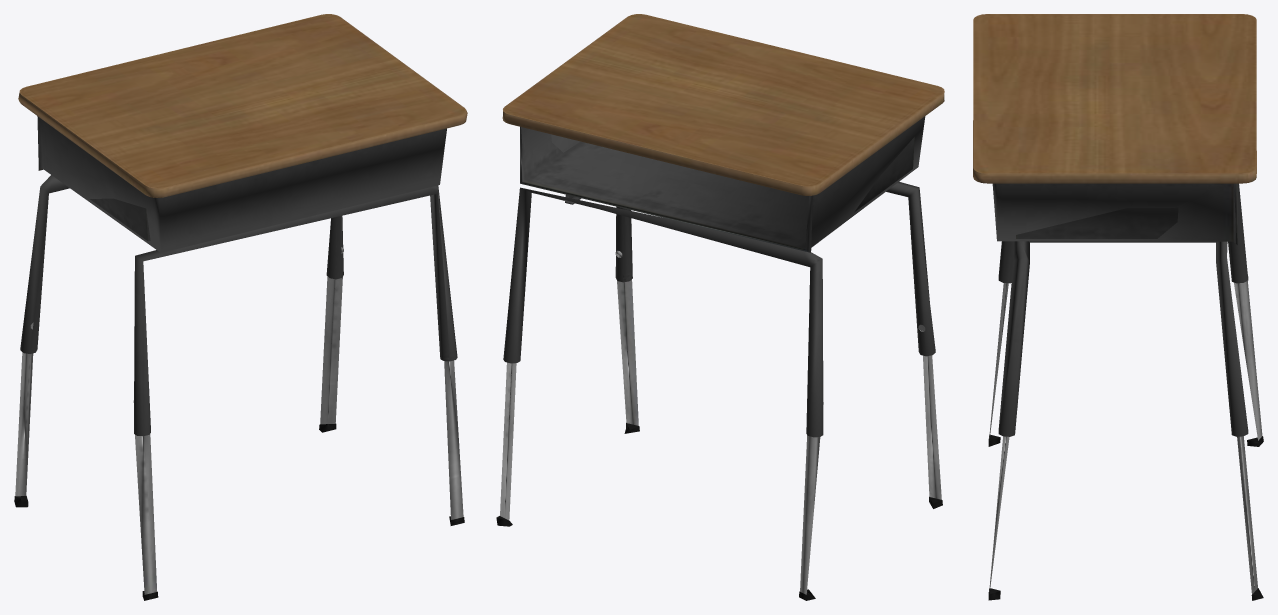
The model's file is desk.glb.
3 views of the same model, side by side, from view 1: azimuth 30°, elevation 25°; view 2: azimuth 150°, elevation 25°; view 3: azimuth 270°, elevation 25° (orthographic). The views are drawn at different scales.
Parts seen in each view (by area): view 1: SchoolDesk_01; view 2: SchoolDesk_01; view 3: SchoolDesk_01.
Boxes of the visible parts, x1=… form: SchoolDesk_01: x1=14, y1=14, x2=467, y2=600; SchoolDesk_01: x1=496, y1=14, x2=944, y2=600; SchoolDesk_01: x1=973, y1=14, x2=1263, y2=600.
Bounding box in the file's own units: 0.7102 × 0.882 × 0.5438.
Materials: 1 (1 with a texture image).
